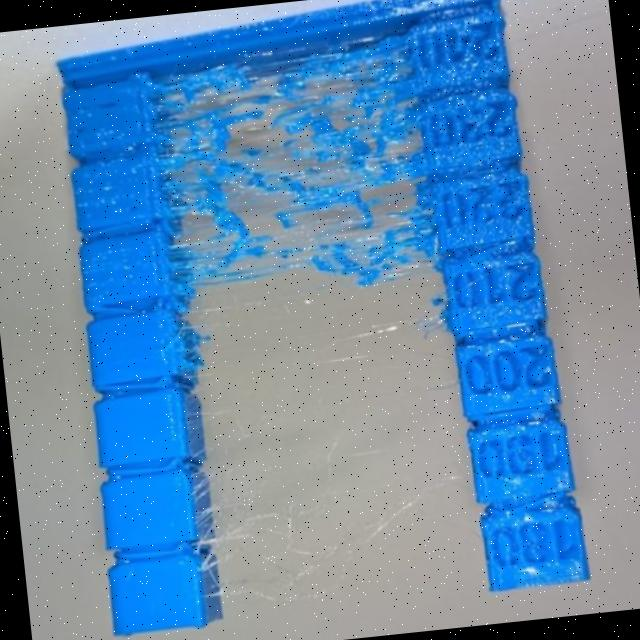stringing: (156, 35, 446, 384), (186, 420, 478, 632)
